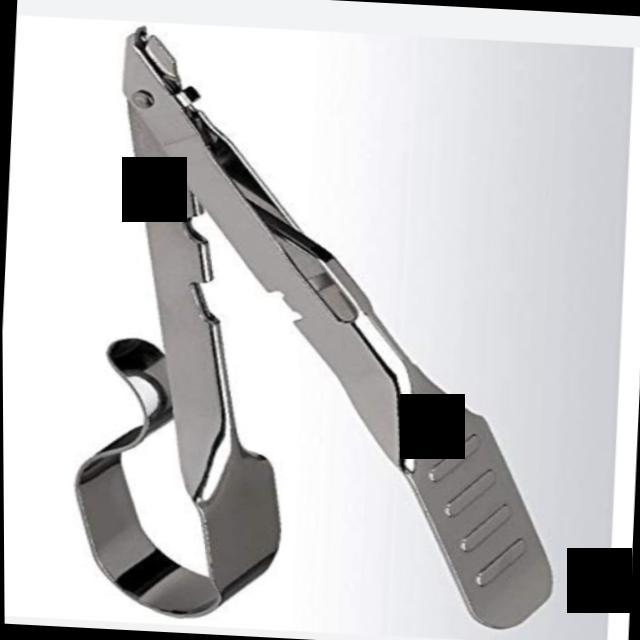Stapler Remover: (56, 22, 589, 638)
